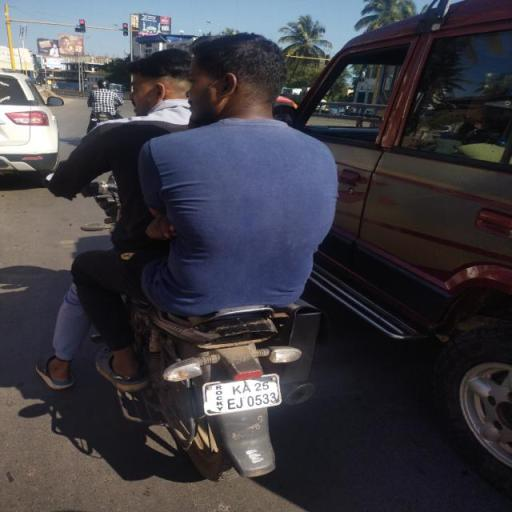bike: (15, 28, 366, 486)
numberplate: (200, 368, 292, 417)
withouthelmet: (192, 34, 278, 116), (128, 50, 186, 104)
